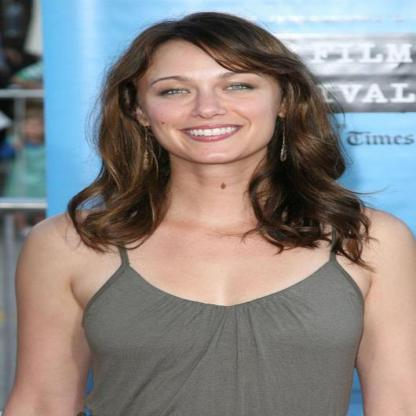long-hair: (77, 165, 366, 220)
